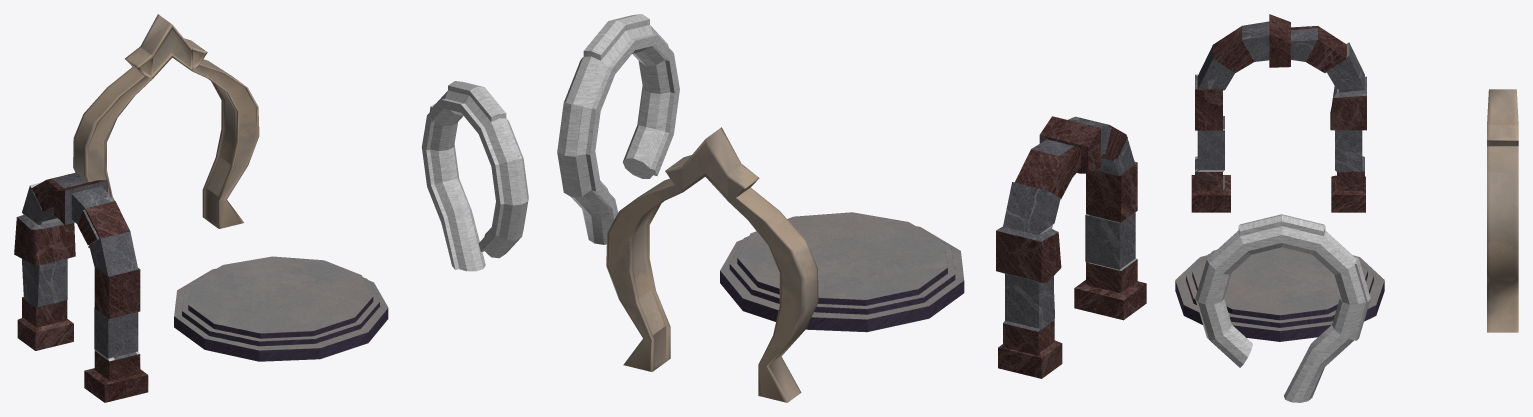
The model's file is portals.glb.
3 renders of one model, left to right at view 1: azimuth 30°, elevation 25°; view 2: azimuth 150°, elevation 25°; view 3: azimuth 270°, elevation 25°, orthographic. The views are drawn at different scales.
Visible parts, largest first — view 1: cave_portal, pCylinder1, future_portal, present_portal; view 2: cave_portal, pCylinder1, present_portal, future_portal; view 3: cave_portal, future_portal, pCylinder1, present_portal.
Boxes of the visible parts, x1,y1,x2,y2 form: cave_portal: (14,172,148,402); pCylinder1: (174,256,388,361); future_portal: (421,81,528,271); present_portal: (73,14,259,248); cave_portal: (996,116,1146,378); pCylinder1: (720,212,964,332); present_portal: (606,127,818,402); future_portal: (557,14,679,244); cave_portal: (1191,14,1366,212); future_portal: (1195,214,1370,402); pCylinder1: (1175,247,1384,341); present_portal: (1487,89,1518,332).
Bounding box in the file's own units: 0.2635 × 0.1262 × 0.1849.
Materials: 2 (2 with a texture image).
